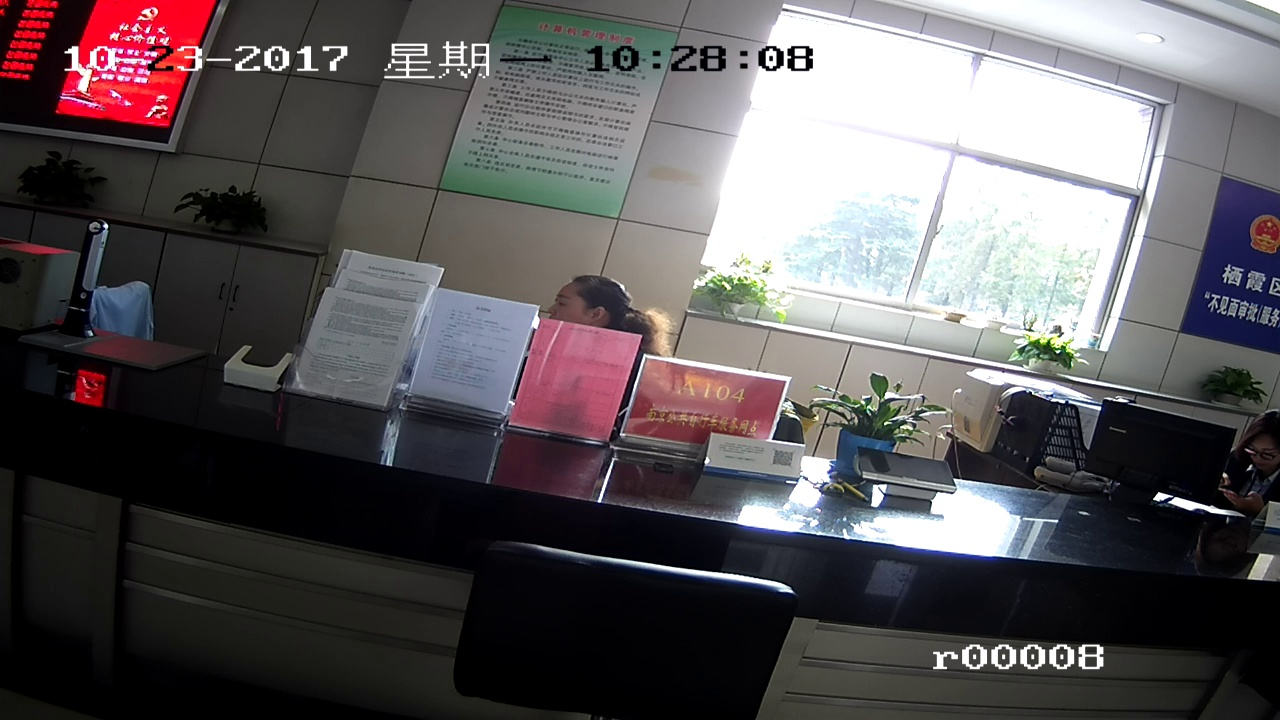billboard: (494, 16, 636, 217), (641, 356, 770, 472)
chair: (454, 536, 794, 714)
person: (545, 272, 634, 333), (1241, 403, 1280, 506)
pot: (811, 369, 928, 486), (1019, 332, 1076, 389), (707, 274, 778, 319), (1214, 367, 1267, 417)
